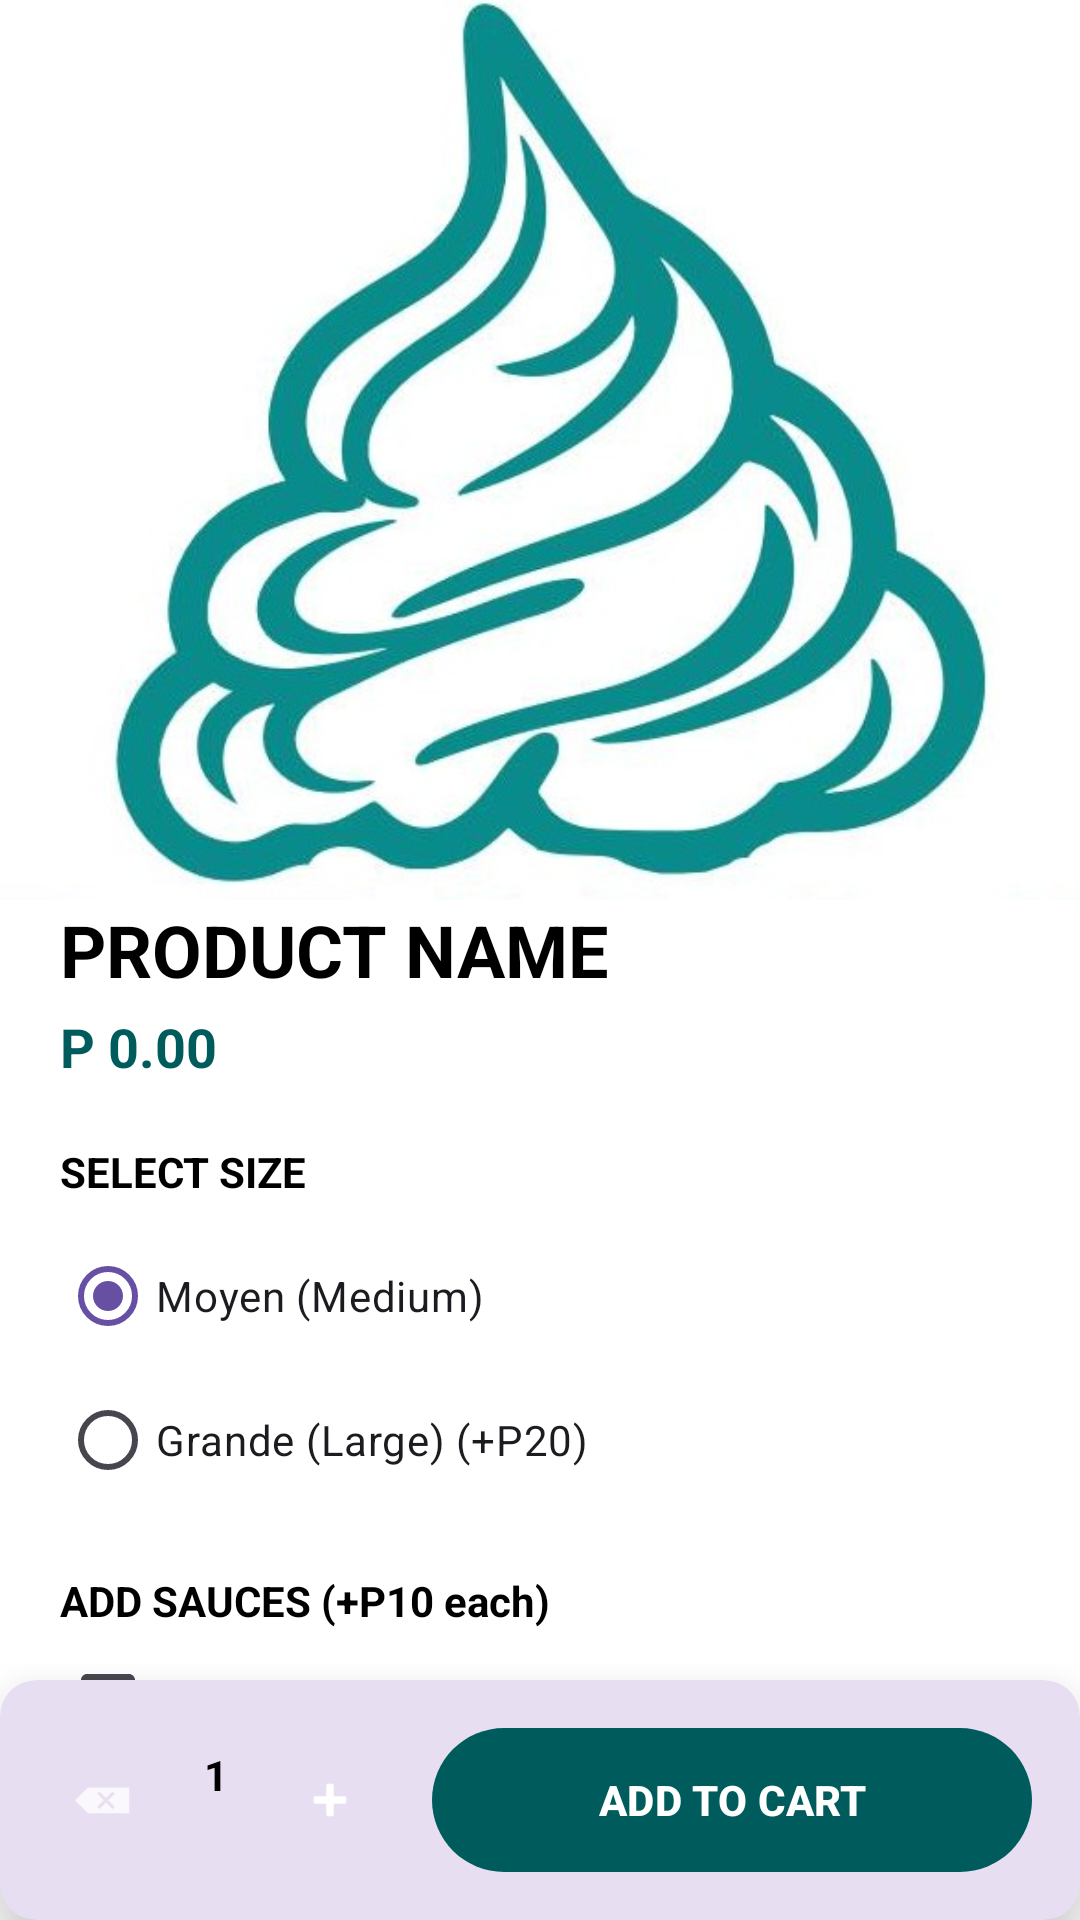

Screen size 1080px×1920px. Icon name, then its center in pixels as (x,y):
delete: (102,1800)
